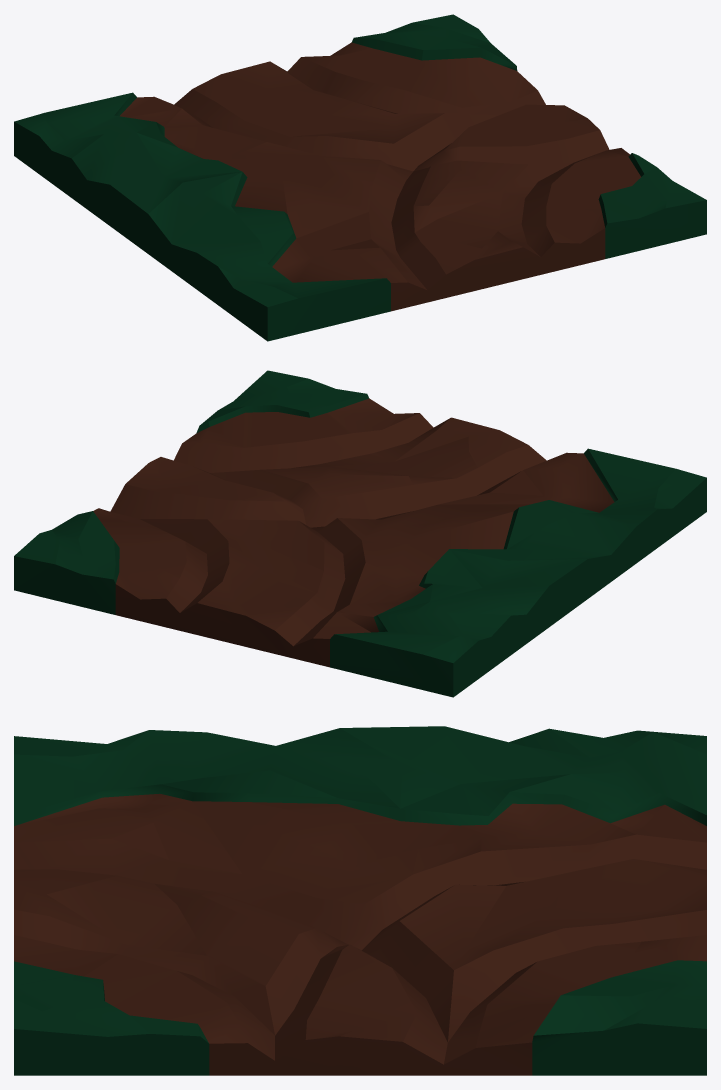
The model's file is Ground_Road_Crossroads_R.fbx.
The picture shows the model from 3 angles, top to bottom: view 1: azimuth 30°, elevation 25°; view 2: azimuth 150°, elevation 25°; view 3: azimuth 270°, elevation 25°; orthographic projection. The views are drawn at different scales.
Parts seen in each view (by area): view 1: Ground_Road_Crossroads_R; view 2: Ground_Road_Crossroads_R; view 3: Ground_Road_Crossroads_R.
Boxes of the visible parts, bbox=[...] form: Ground_Road_Crossroads_R: bbox=[14, 14, 706, 341]; Ground_Road_Crossroads_R: bbox=[14, 370, 706, 697]; Ground_Road_Crossroads_R: bbox=[14, 726, 706, 1075].
Bounding box in the file's own units: 147 × 14.83 × 147.
